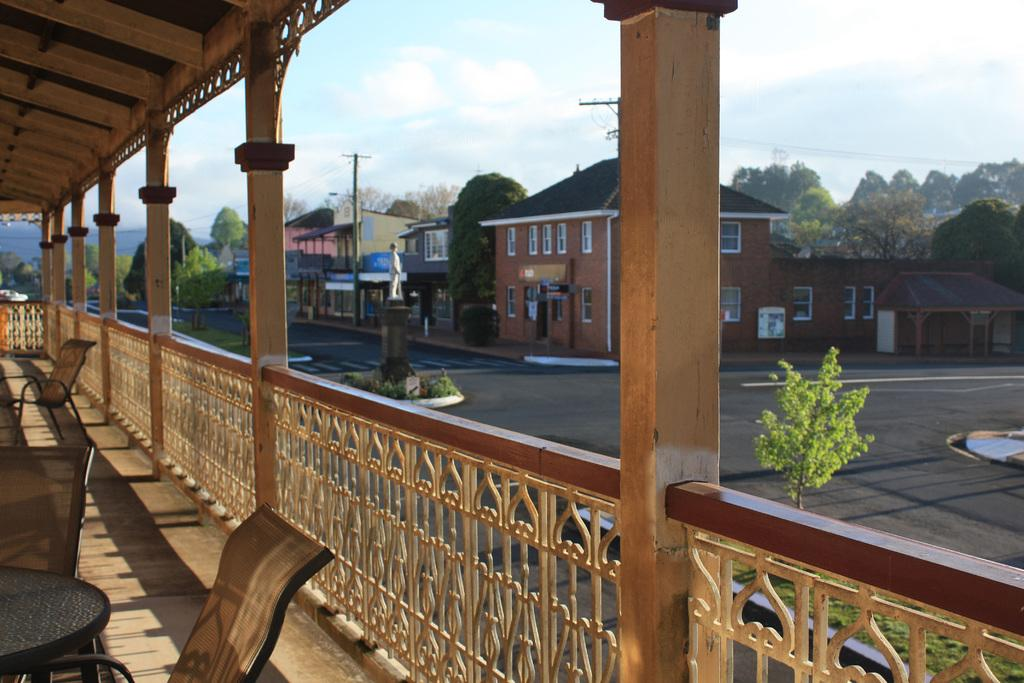Chair: (14, 501, 335, 682), (0, 444, 110, 682), (0, 337, 96, 444)
